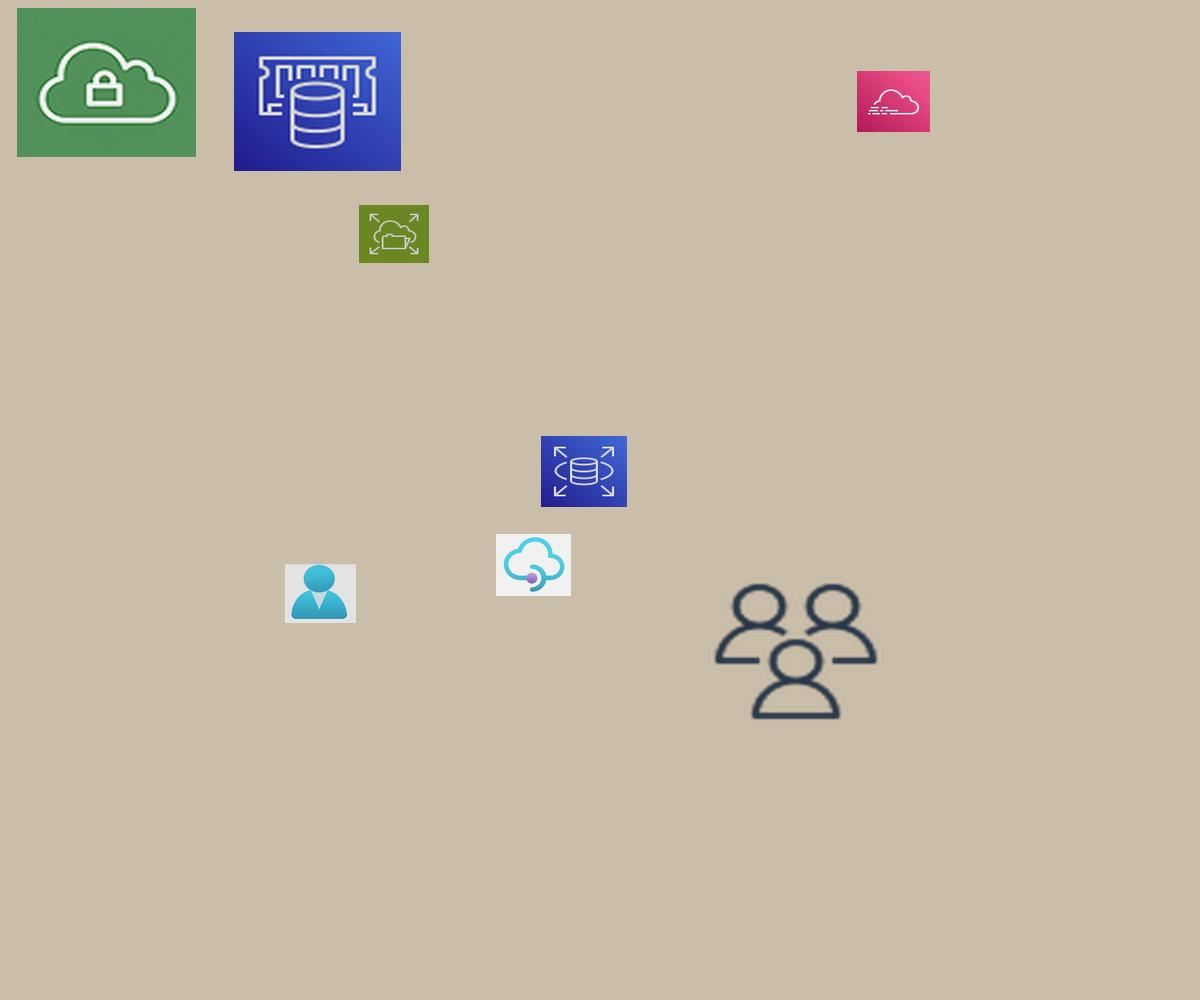AWS-CloudTrail: (857, 71, 930, 132)
AWS-EFS: (359, 205, 429, 263)
AWS-ElastiCache: (234, 32, 401, 171)
AWS-Private_vpc: (17, 8, 196, 157)
AWS-RDS: (541, 436, 627, 507)
AWS-Res_Users: (708, 578, 884, 725)
Azure_api_gateway: (496, 534, 571, 596)
Azure_users: (285, 564, 356, 623)
